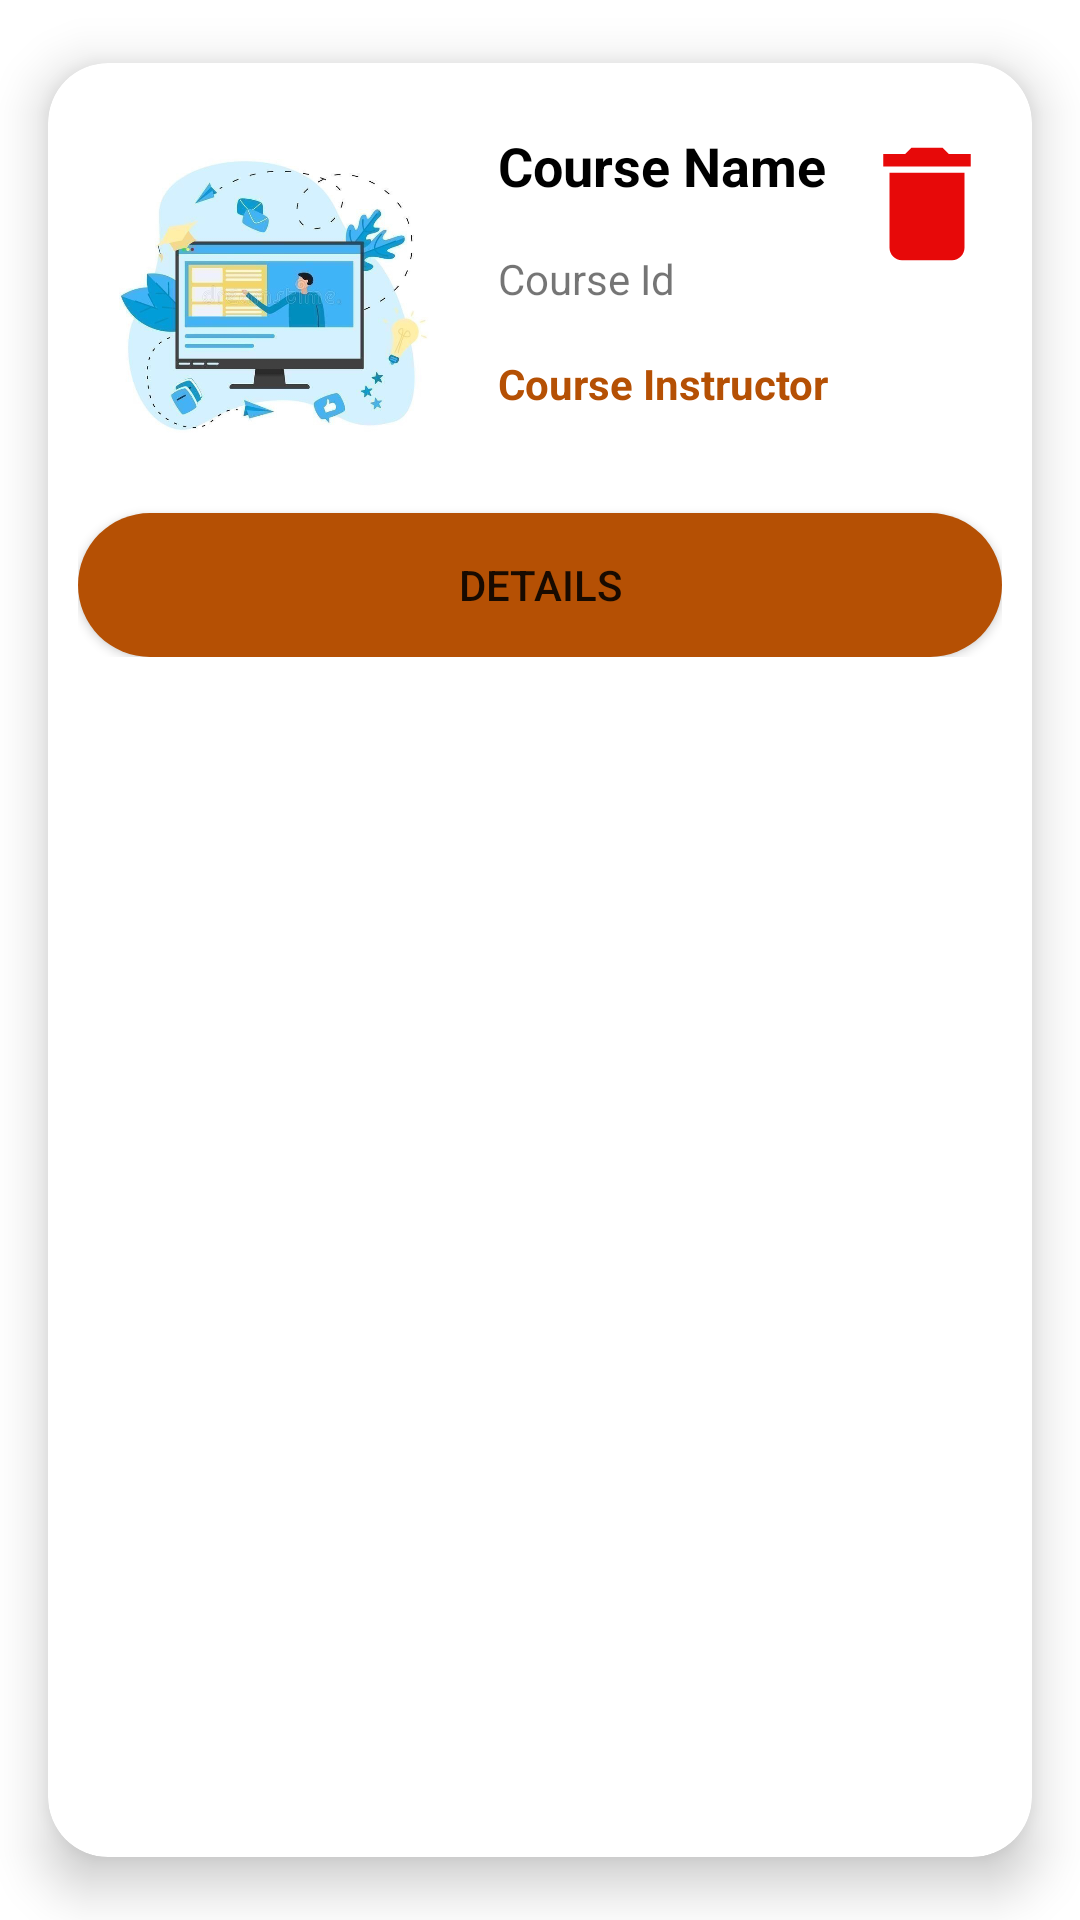

Screen size 1080 x 1920. Icon name, then its box in pixels as (x1, y1, x2, y2):
delete: (883, 147, 971, 261)
